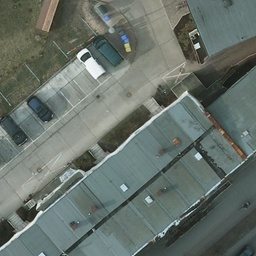car: (1, 113, 31, 147), (28, 95, 54, 123)
van: (92, 35, 126, 66), (76, 49, 107, 82)
